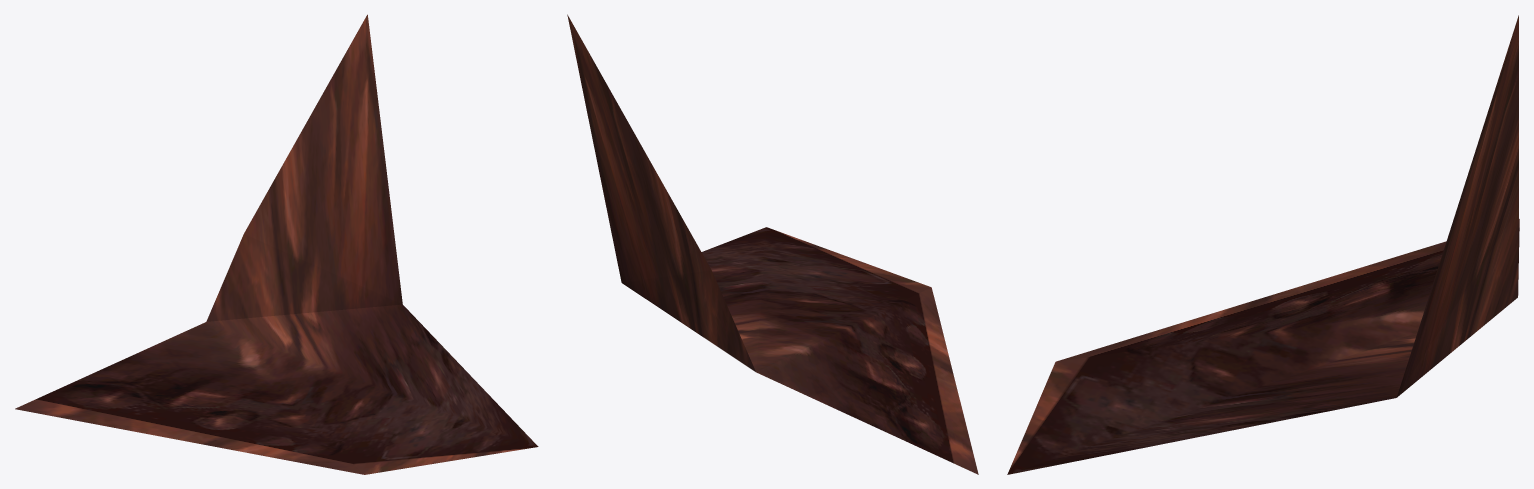
The model's file is lava_trim_endcap_02.fbx.
The picture shows the model from 3 angles, left to right: view 1: azimuth 30°, elevation 25°; view 2: azimuth 150°, elevation 25°; view 3: azimuth 270°, elevation 25°; orthographic projection. The views are drawn at different scales.
Parts seen in each view (by area): view 1: obj0.148; view 2: obj0.148; view 3: obj0.148.
Boxes of the visible parts, <box> form: obj0.148: <box>15,14,538,474</box>; obj0.148: <box>567,14,978,474</box>; obj0.148: <box>1007,15,1519,474</box>.
Bounding box in the file's own units: 1.38 × 1.15 × 1.15.
